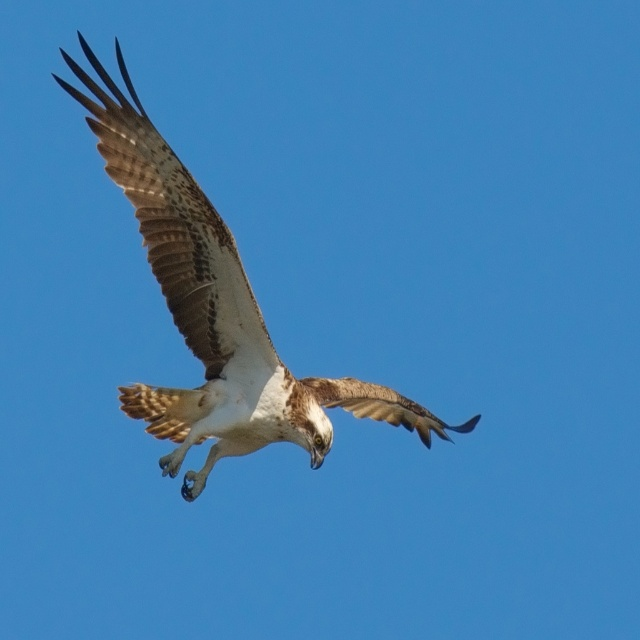Eagle: (41, 30, 481, 499)
